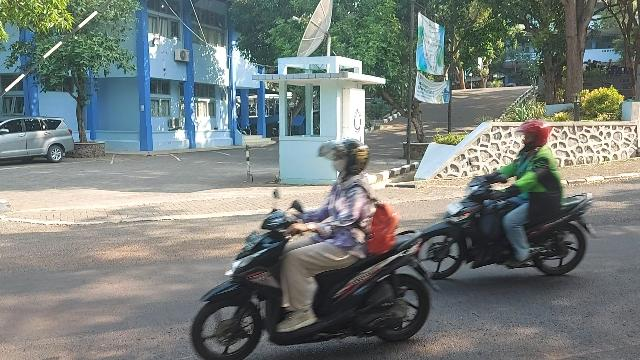helm: (319, 140, 371, 177), (517, 120, 551, 149)
motor: (191, 191, 441, 360), (419, 172, 599, 281)
